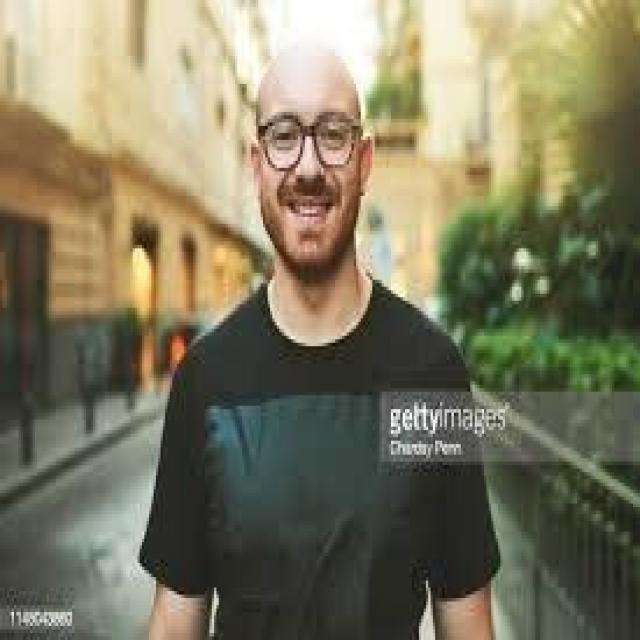person: (130, 39, 508, 636)
